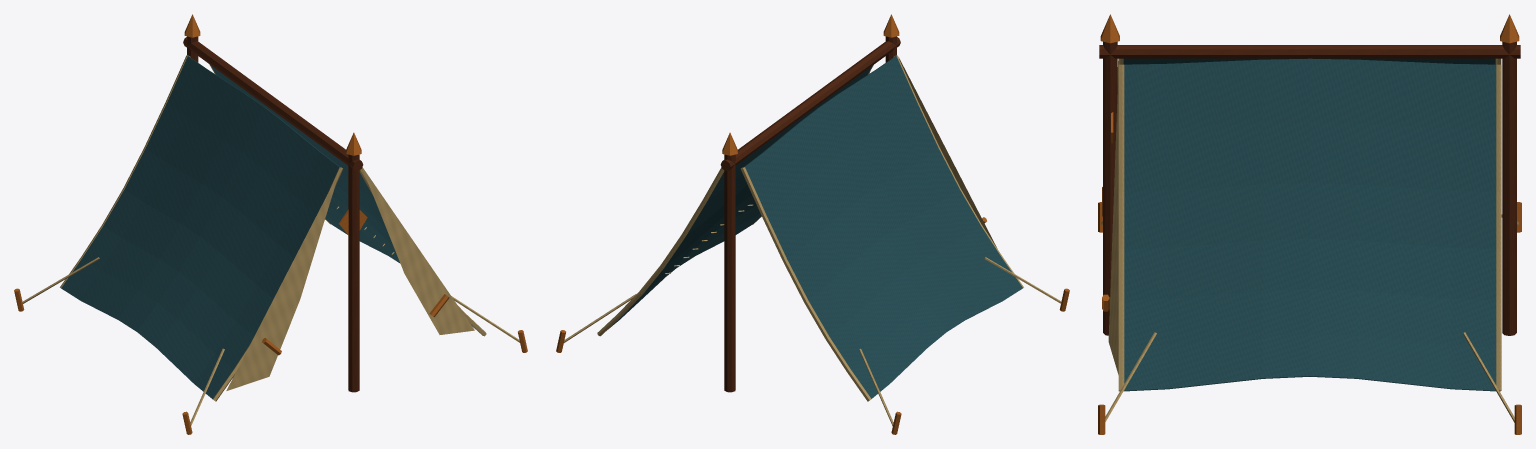
Rendered from WayfarerTent.fbx.
3 views of the same model, side by side, from view 1: azimuth 30°, elevation 25°; view 2: azimuth 150°, elevation 25°; view 3: azimuth 270°, elevation 25° (orthographic). The views are drawn at different scales.
Visible parts, largest first — view 1: WayfarerTent; view 2: WayfarerTent; view 3: WayfarerTent.
Boxes of the visible parts, x1,y1,x2,y2 form: WayfarerTent: [14, 14, 527, 434]; WayfarerTent: [556, 14, 1069, 434]; WayfarerTent: [1098, 14, 1521, 434].
Size of the model in its own units: 271 by 194 by 234.
1 material, 1 textured.
